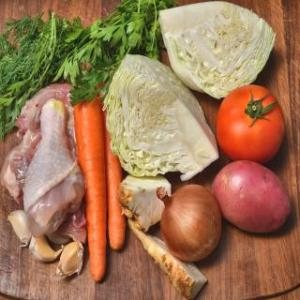cabbage: (107, 51, 220, 181), (157, 2, 279, 98)
carrot: (74, 96, 109, 286), (98, 82, 128, 252)
garlic: (53, 234, 85, 284), (25, 230, 63, 264), (4, 208, 30, 247)
onion: (158, 176, 224, 266)
potato: (214, 156, 292, 242)
tomato: (216, 83, 286, 165)
